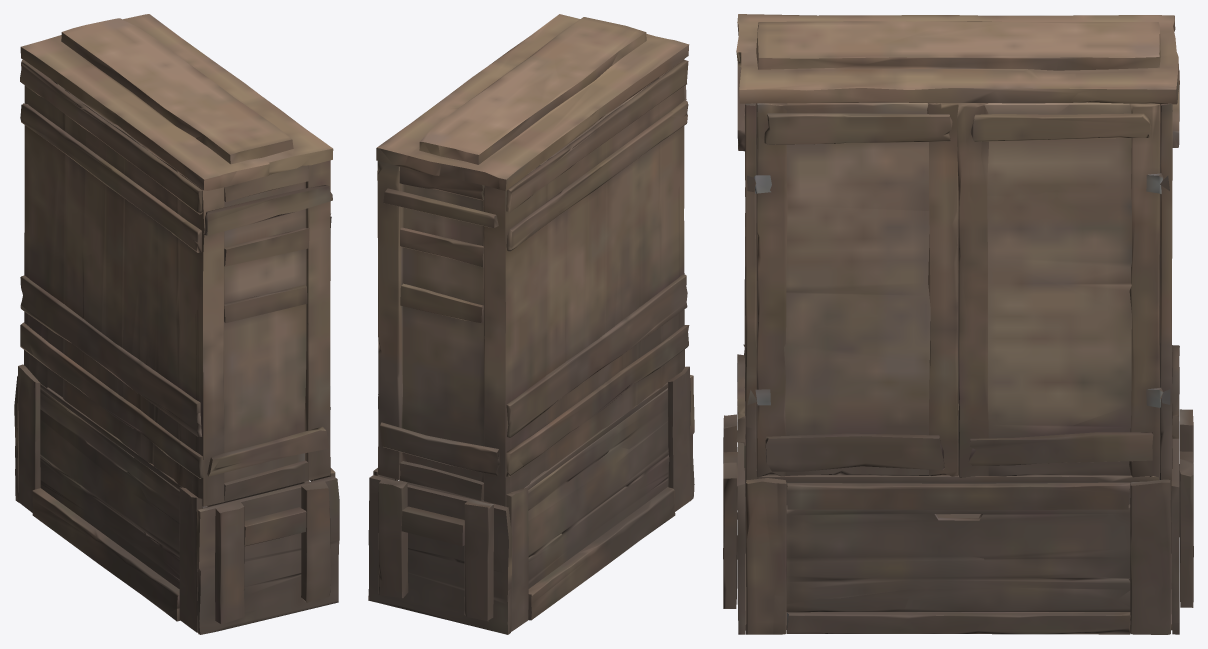
Rendered from StorageBox_Large_C.glb.
3 views of the same model, side by side, from view 1: azimuth 30°, elevation 25°; view 2: azimuth 150°, elevation 25°; view 3: azimuth 270°, elevation 25° (orthographic). The views are drawn at different scales.
Visible parts, largest first — view 1: SM_LargeStorage_Closed; view 2: SM_LargeStorage_Closed; view 3: SM_LargeStorage_Closed.
Boxes of the visible parts, left/top/right/bottom form: SM_LargeStorage_Closed: left=14, top=14, right=339, bottom=634; SM_LargeStorage_Closed: left=368, top=14, right=694, bottom=634; SM_LargeStorage_Closed: left=723, top=14, right=1193, bottom=634.
Size of the model in its own units: 3.87 by 12 by 9.21.
1 material, 1 textured.
